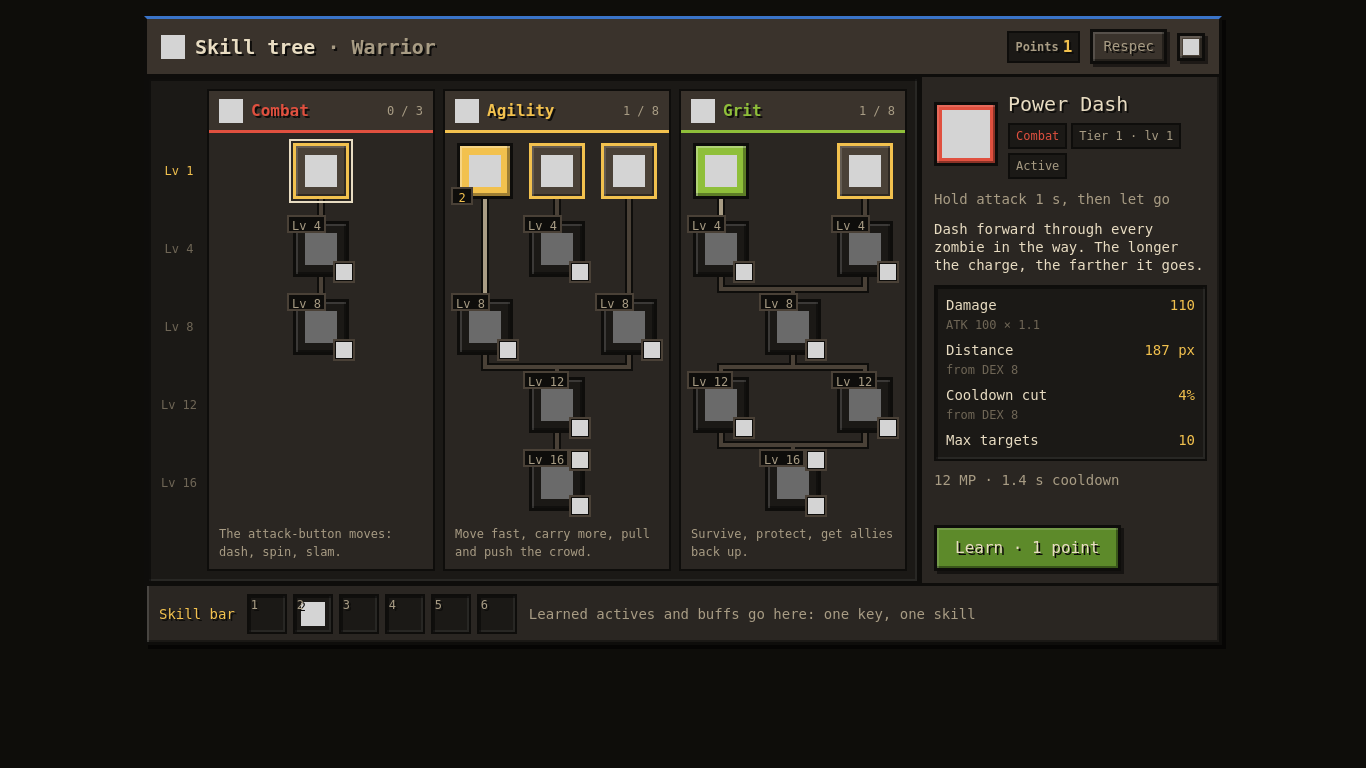
Test: TreeSkillWindowComponent › a slot click with a passive selected picks the skill on that slot instead
Click the button named "Iron Recovery" at point(721, 171), box left=693, top=143, right=749, bottom=199
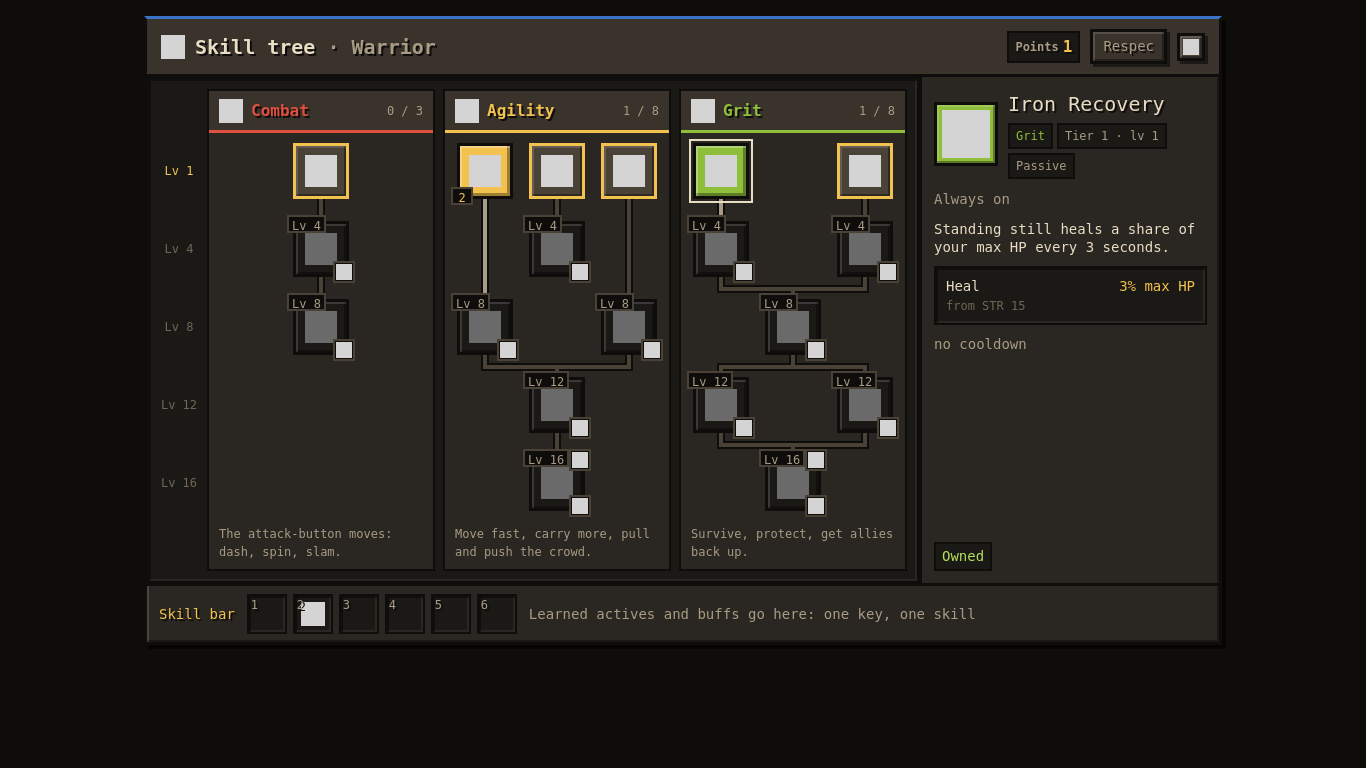
Click the button "2" in the row of "Skill bar" at point(313, 614), box left=293, top=594, right=333, bottom=634
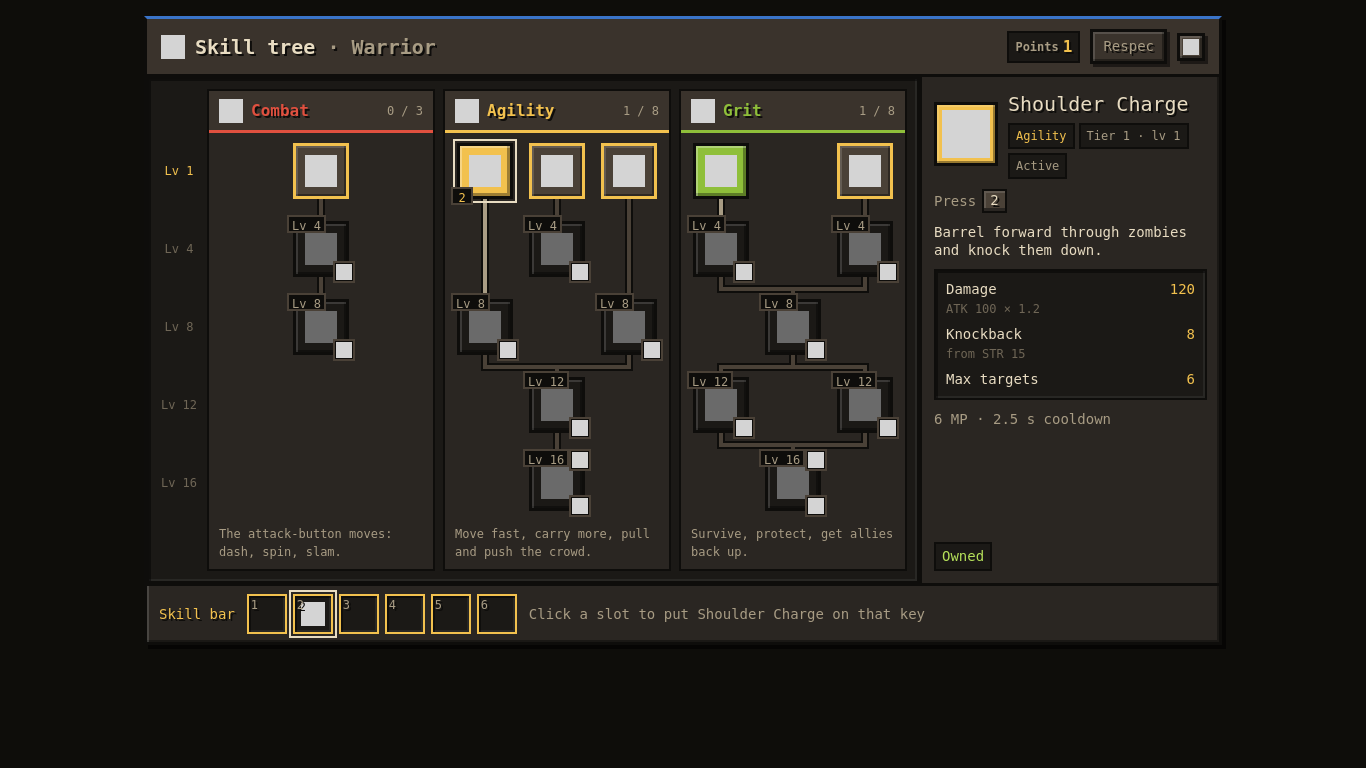
Check: the heading "Shoulder Charge" is shown, box left=1008, top=89, right=1207, bottom=119
